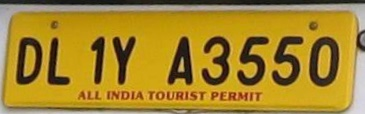numberplate: (2, 9, 359, 114)
